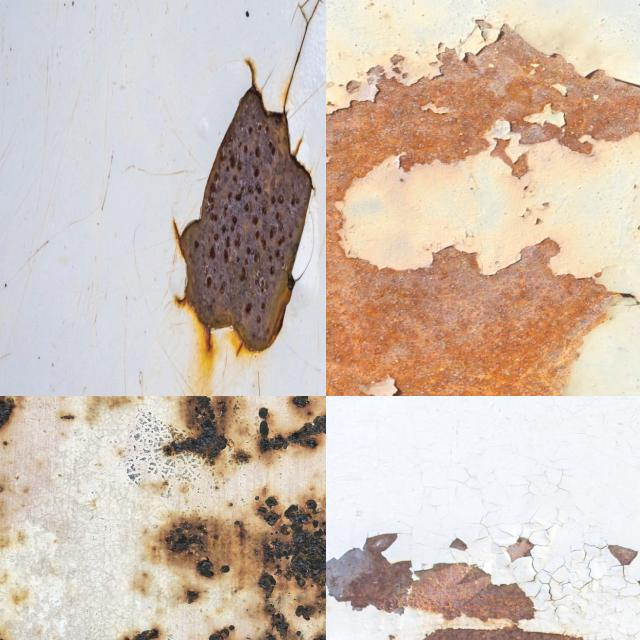Crack: (282, 0, 321, 116)
Pitting Corrosion: (174, 70, 312, 350), (249, 488, 326, 640), (149, 514, 272, 588), (163, 396, 231, 465), (260, 408, 326, 451), (119, 624, 164, 640), (0, 482, 10, 547), (186, 590, 199, 603)
Uniform Corrosion: (326, 29, 640, 396), (406, 563, 534, 622), (326, 534, 412, 611), (424, 624, 583, 640), (608, 545, 637, 565)
